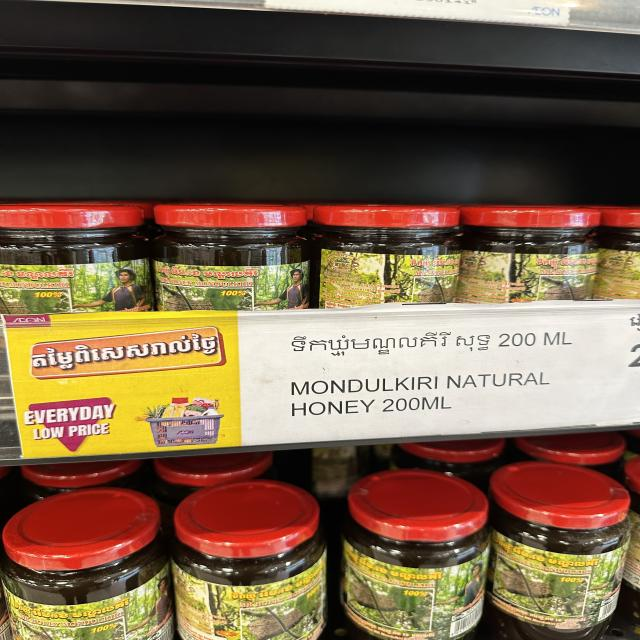Yolov11kh: (276, 321, 541, 361), (25, 327, 220, 376)
